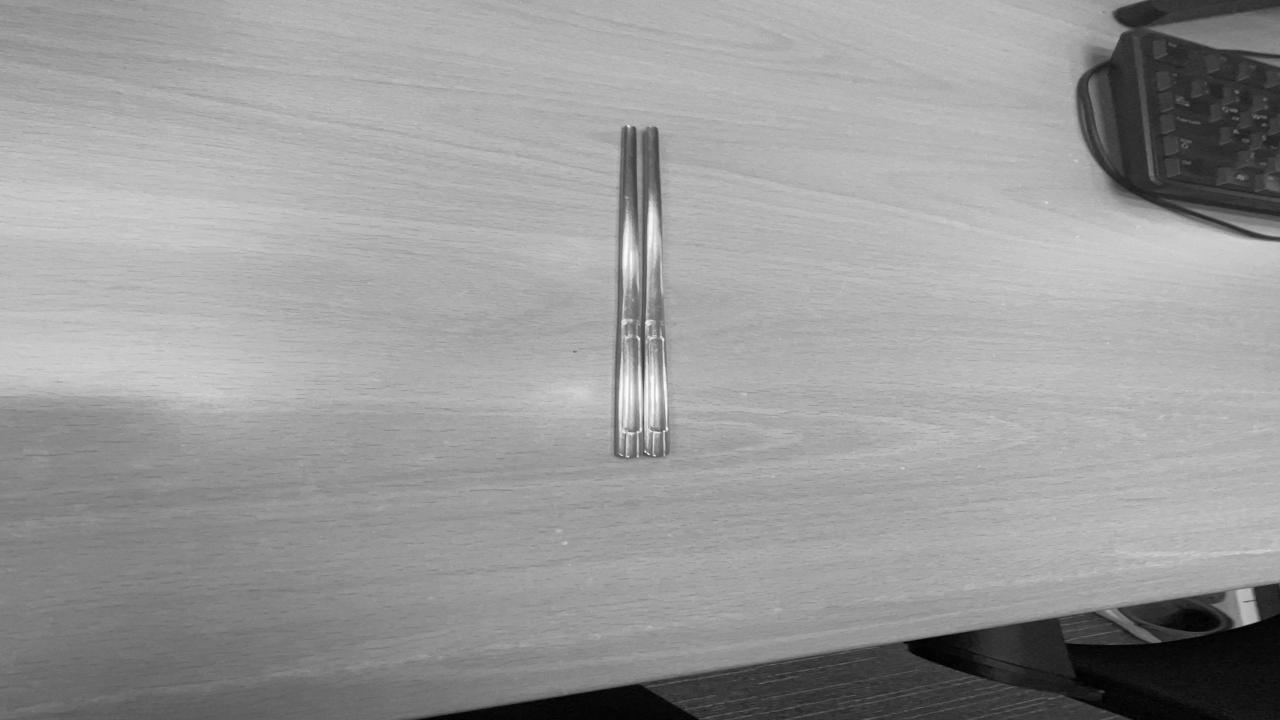chopstick: (610, 124, 670, 462)
